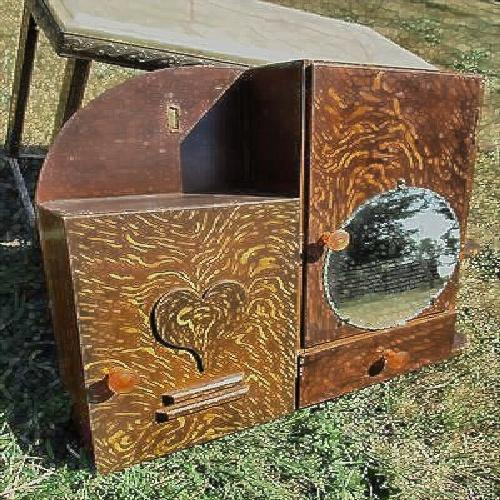cabinet: (60, 67, 467, 450)
